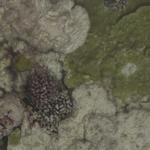alive: (3, 4, 148, 149)
